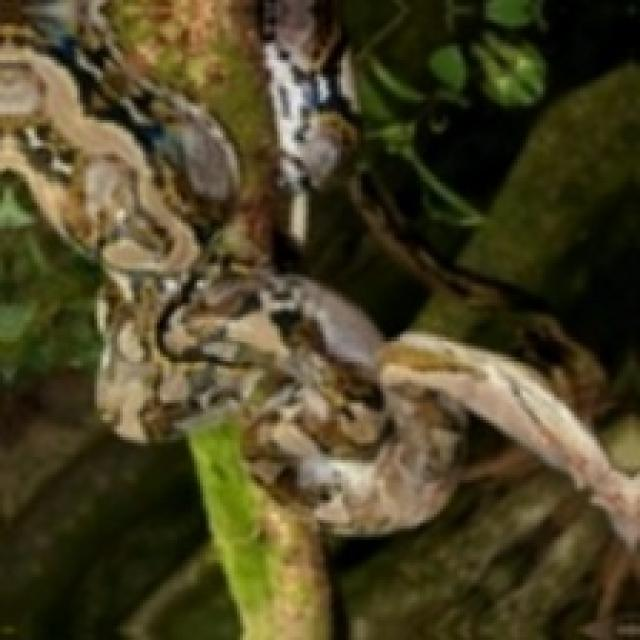reticulated python: (320, 414, 637, 637)
